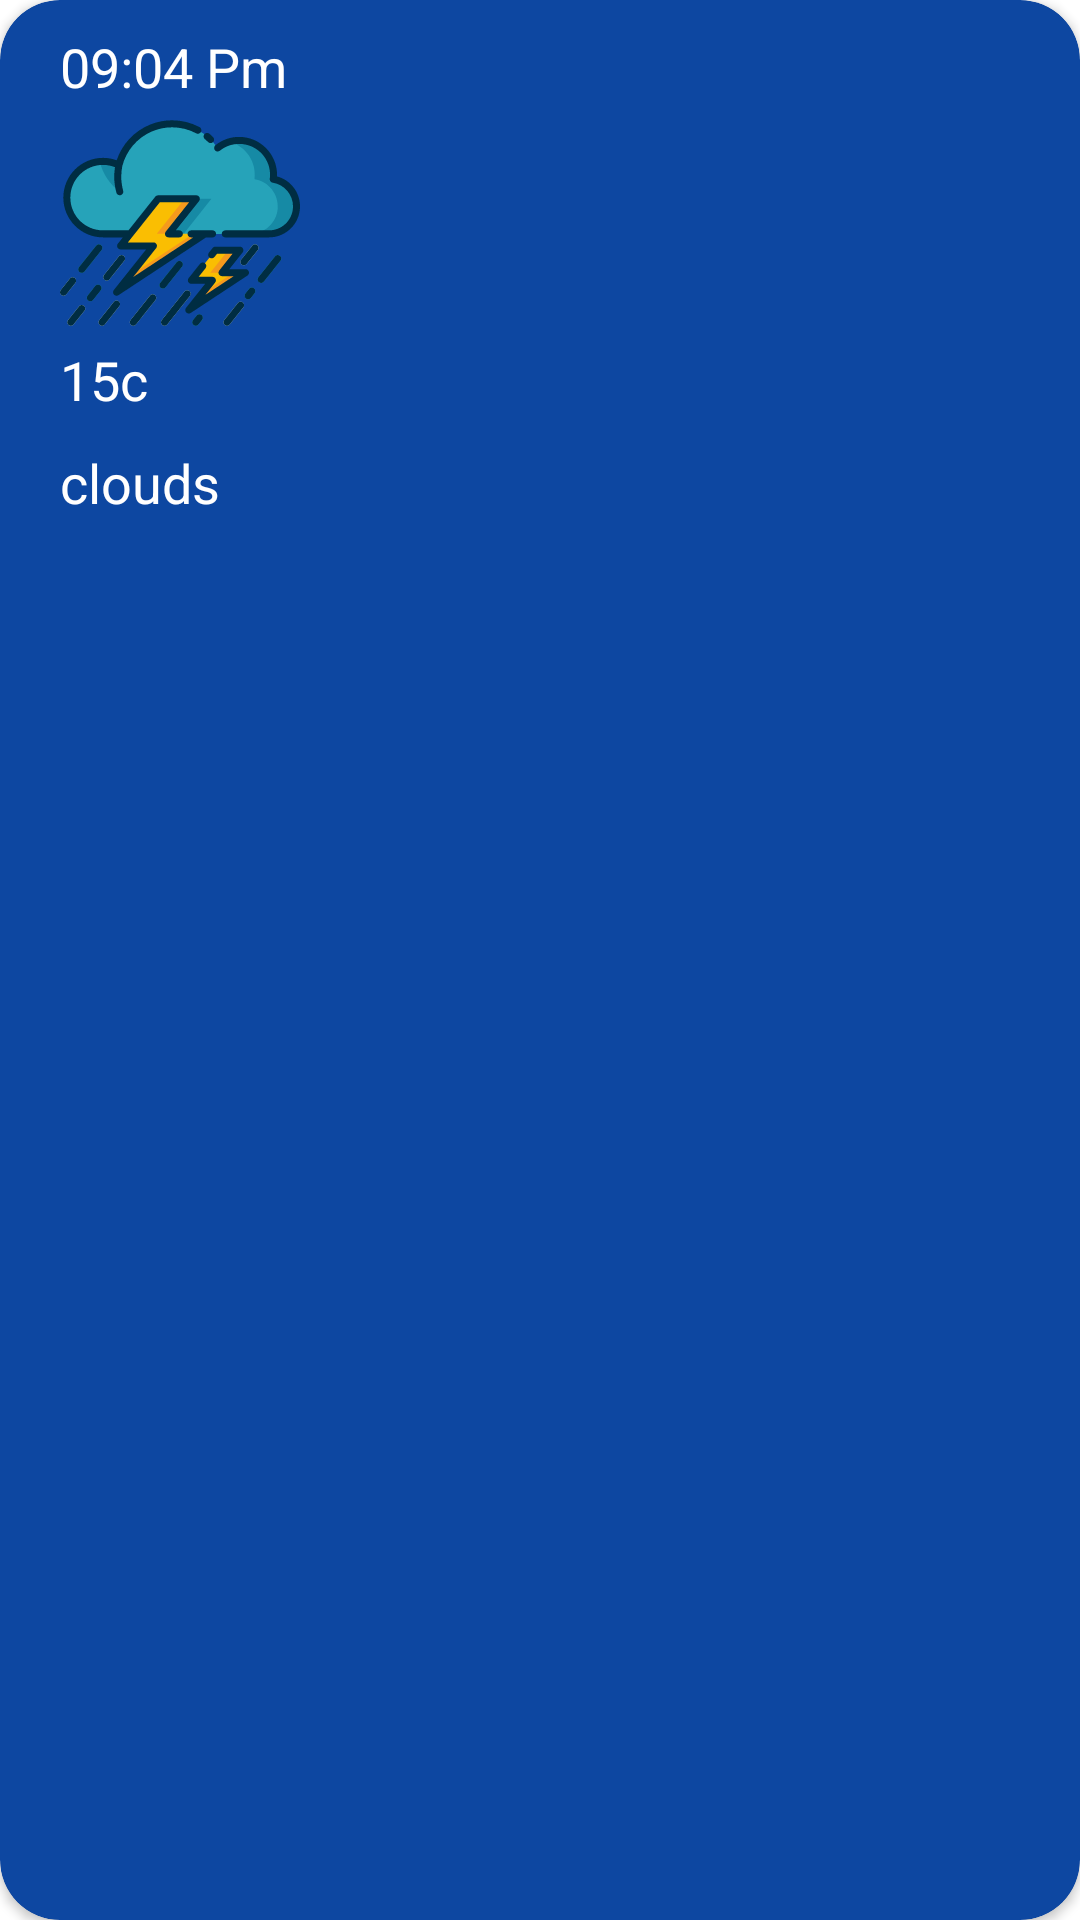

Named icons in this screenshot (1080px x 1920px) and their centers, [x,y]:
thunderstorm: [180,223]
